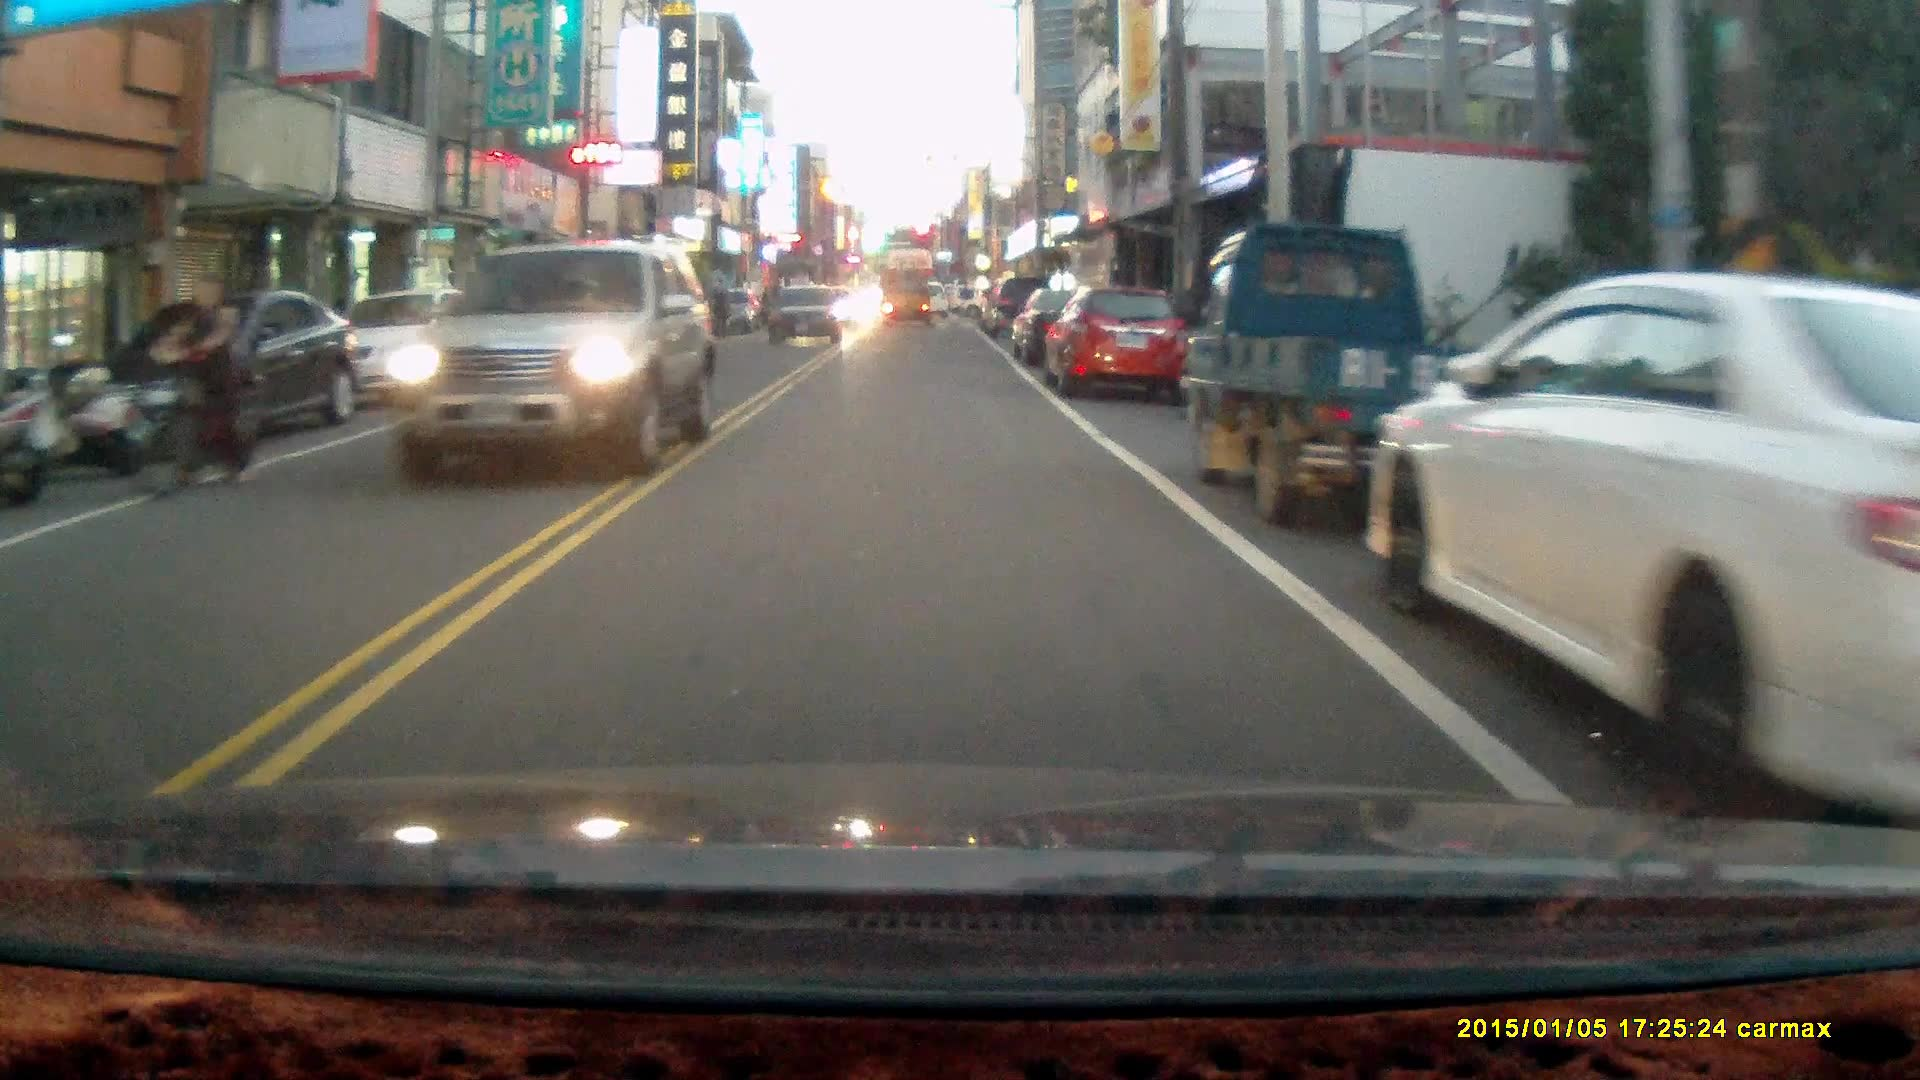pedestrian: (707, 277, 731, 339)
rider: (127, 266, 254, 500)
vehicle: (1364, 273, 1920, 832), (1186, 222, 1552, 536), (384, 244, 716, 479), (97, 290, 360, 442), (1047, 287, 1189, 402), (1006, 286, 1131, 376), (770, 284, 842, 350), (879, 270, 933, 332)
